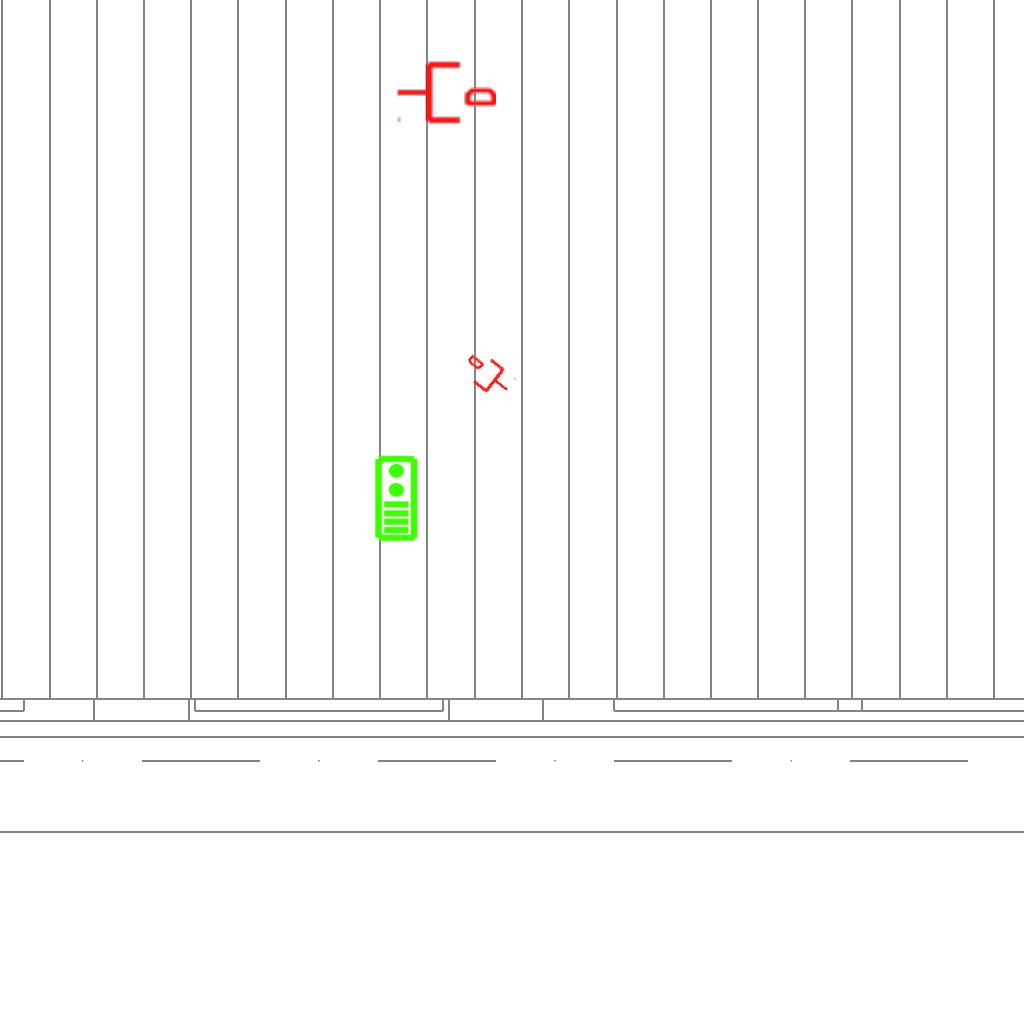Datenanschluss_einfach: (396, 58, 496, 127), (457, 346, 519, 404)
Gegensprechanlage_mit_Video: (372, 454, 419, 542)
